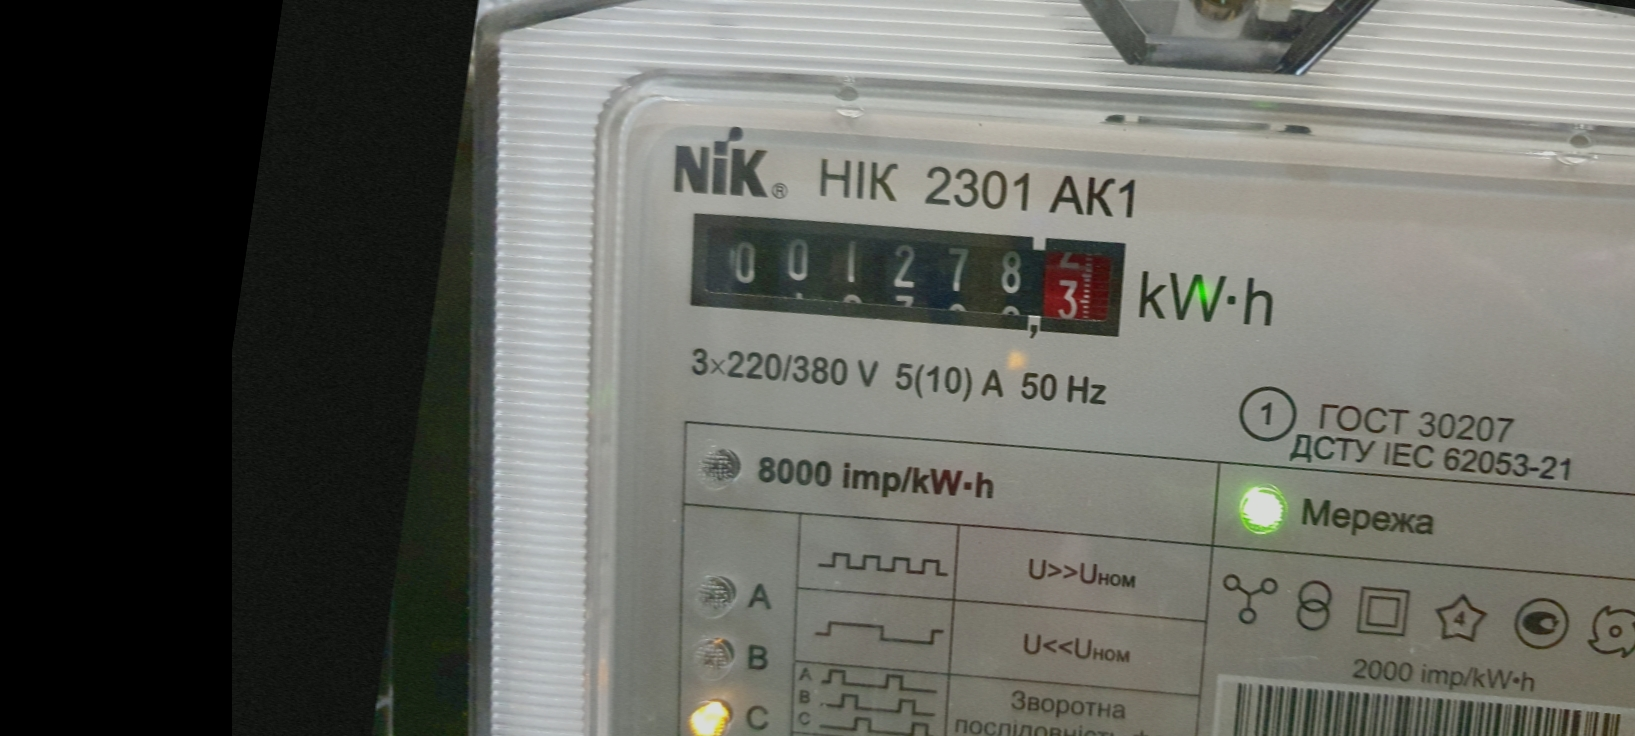0: (728, 234, 761, 285), (780, 232, 812, 283)
1: (838, 234, 863, 283)
2: (887, 239, 920, 289), (1055, 246, 1081, 269)
3: (1050, 273, 1082, 320)
7: (939, 242, 969, 291)
8: (995, 246, 1025, 293)
screen: (664, 165, 1149, 379)
